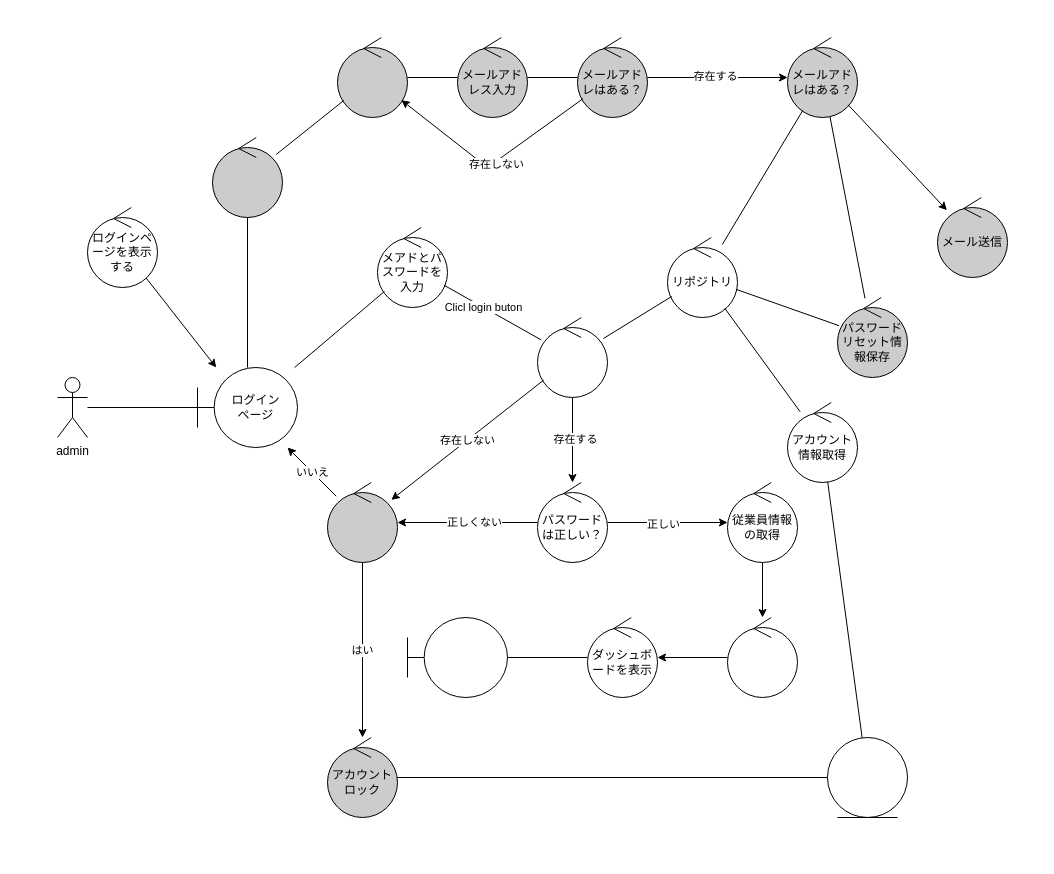
Some shapes in this 1054 by 874 pixel diagram are drawn without their labels. The shapes that lost their labels are listed below. From the top down, each one's centre as x and y in pixels, then its label:
the point at 372,77: メールアドレス入力ページ
the point at 247,177: パスワード忘れリンククリック
the point at 572,357: アカウントの存在は？
the point at 362,522: 3回ログイン失敗？
the point at 457,657: ダッシュボード
the point at 762,657: セッションの開始
the point at 867,777: アカウント
